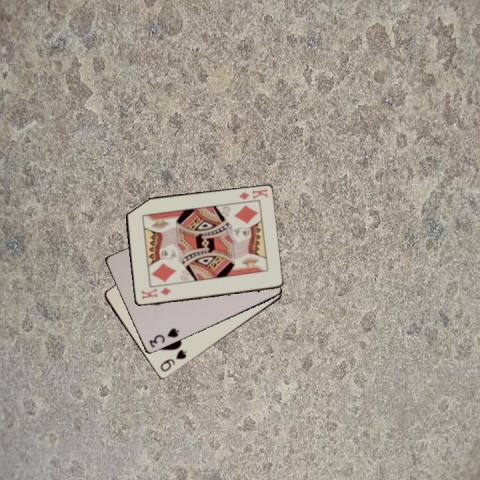3s: (146, 326, 180, 350)
9s: (157, 347, 188, 373)
Kd: (138, 284, 172, 300), (235, 186, 269, 201)
